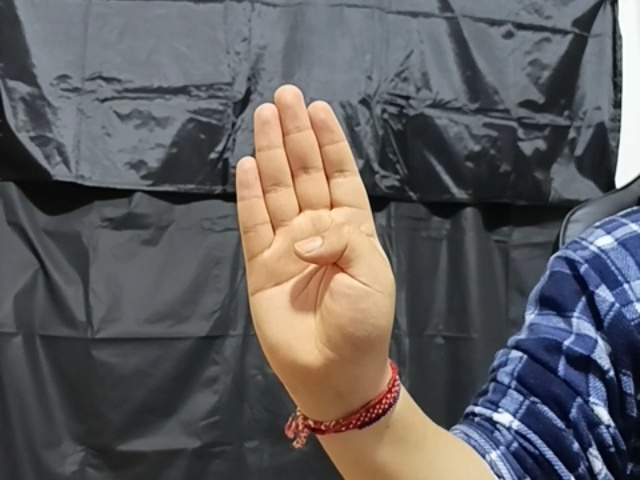B: (225, 82, 408, 381)
